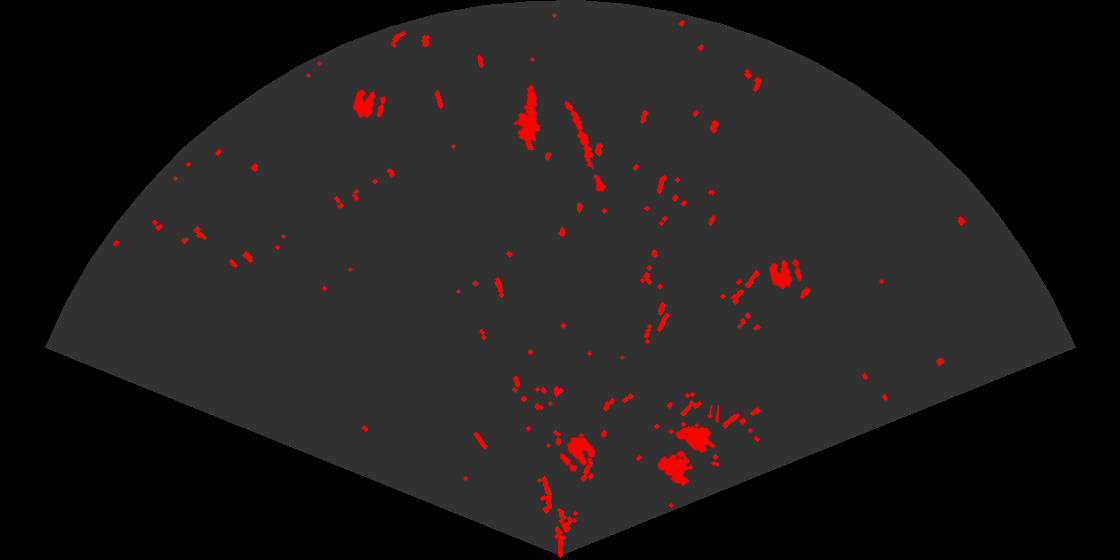ball: (558, 435, 597, 474), (768, 257, 804, 291), (351, 88, 388, 120)
cage: (656, 405, 719, 488)
chain: (563, 99, 608, 194)
frogman: (512, 83, 542, 150)
